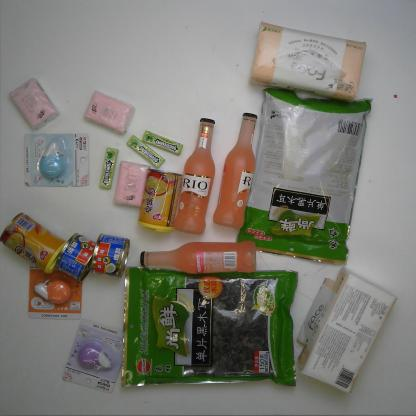Alcohol: (212, 112, 257, 229), (173, 118, 215, 234), (140, 241, 257, 274)
Canned Food: (0, 213, 68, 273), (138, 168, 183, 233), (55, 232, 100, 282), (92, 234, 129, 277)
Dried Food: (235, 88, 373, 265), (120, 266, 298, 388)
Gum: (128, 136, 166, 169), (142, 130, 183, 157), (99, 146, 119, 190)
Stationery: (62, 319, 132, 394), (29, 249, 82, 320), (23, 134, 89, 186)
Tissue: (297, 267, 398, 395), (249, 21, 366, 102), (9, 78, 59, 130), (84, 90, 134, 135), (113, 160, 150, 208)
